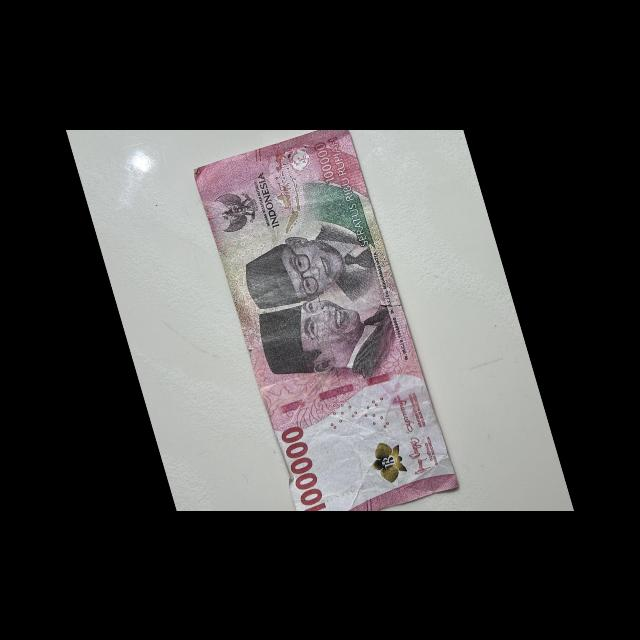Palsu-100k: (182, 114, 466, 546)
Tinta-Palsu-100k: (363, 435, 412, 492)
